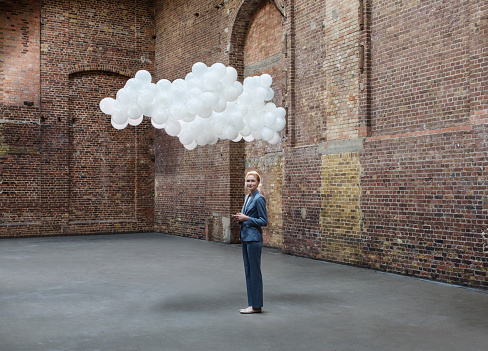em pe: (229, 172, 277, 309)
